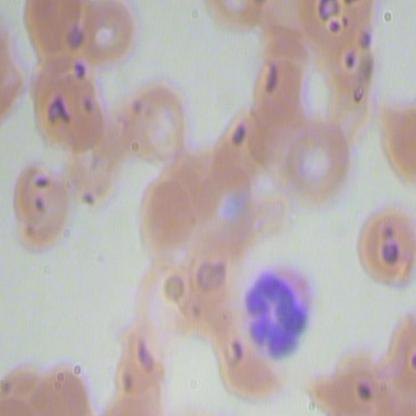RBC: (25, 68, 106, 154), (280, 116, 356, 207), (126, 79, 189, 166), (14, 162, 76, 250), (353, 199, 415, 287), (249, 53, 314, 135), (136, 176, 197, 261), (110, 322, 167, 392), (77, 1, 134, 70)
WBC: (238, 256, 320, 361)
